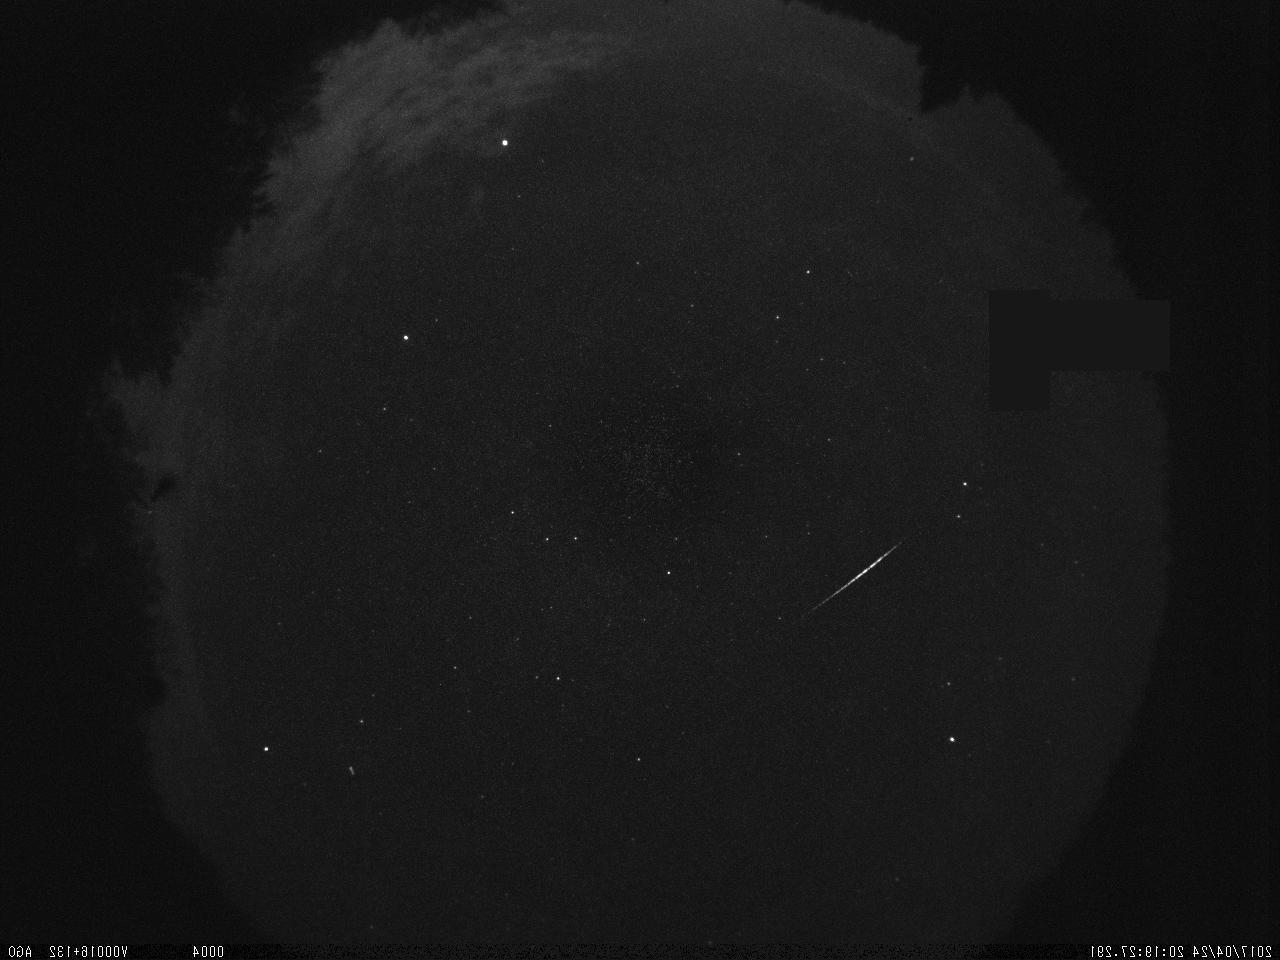meteor: (785, 525, 924, 634)
